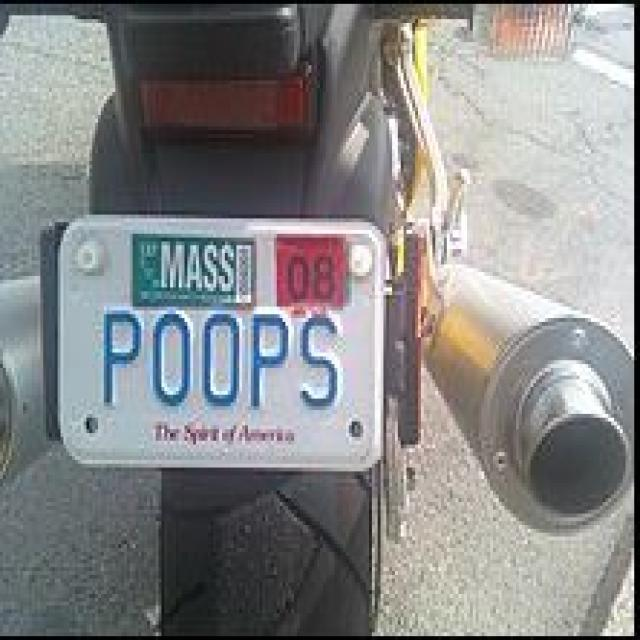license_plate: (52, 207, 389, 471)
